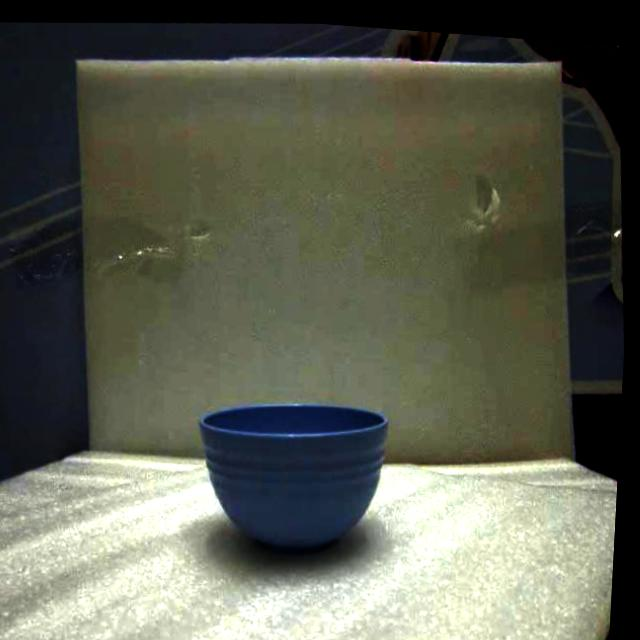Bowl: (199, 405, 387, 552)
